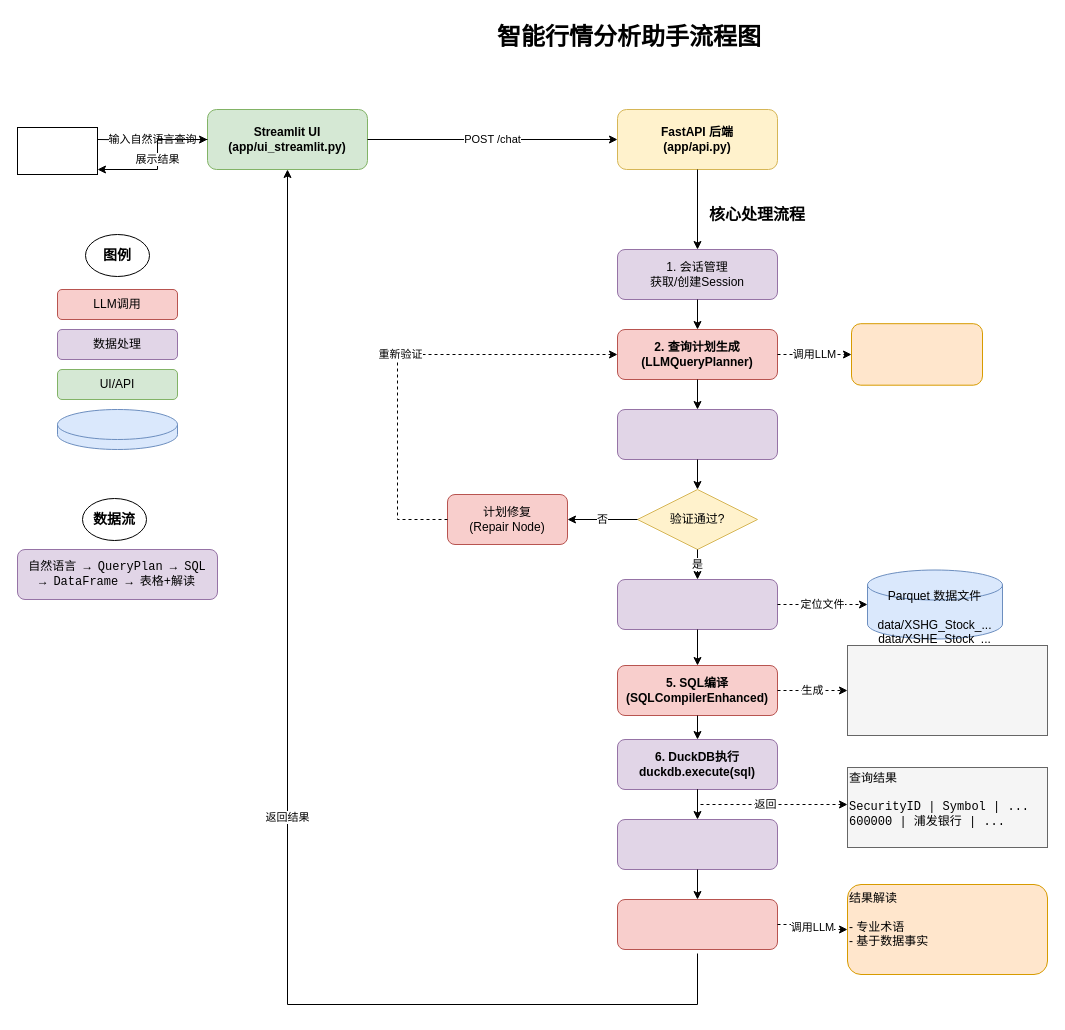
Image size: 1065x1030. Some labels were removed from this diagram. The box of each missing label's shape, as (x1, y1, x2, y2) in pixels:
- 字段定义 - 衍生指标 - Few-shot示例: (850, 323, 982, 385)
3. 计划验证 字段白名单检查: (616, 408, 778, 460)
4. 数据路径解析 resolve_parquet_paths(): (616, 578, 778, 630)
7. 结果后处理 列过滤、格式化: (616, 818, 778, 870)
8. 生成结果解读 (generate_commentary): (616, 898, 778, 950)
DuckDB SQL SELECT ... FROM parquet_scan(...) WHERE ... ORDER BY ... LIMIT ...: (846, 644, 1048, 736)
数据存储: (56, 408, 178, 450)
用户: (16, 126, 98, 174)
